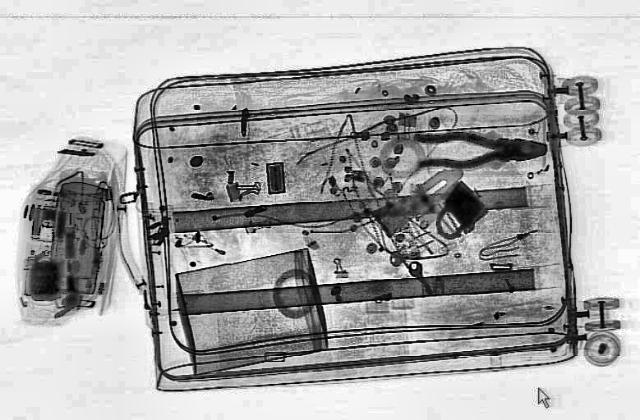Pliers: (412, 131, 546, 169)
